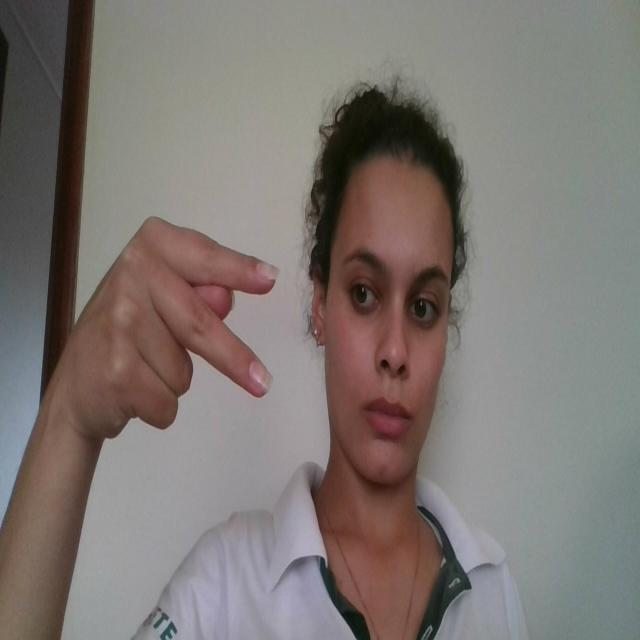P: (78, 196, 292, 454)
